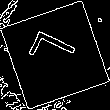L_SE: (25, 30, 85, 80)
